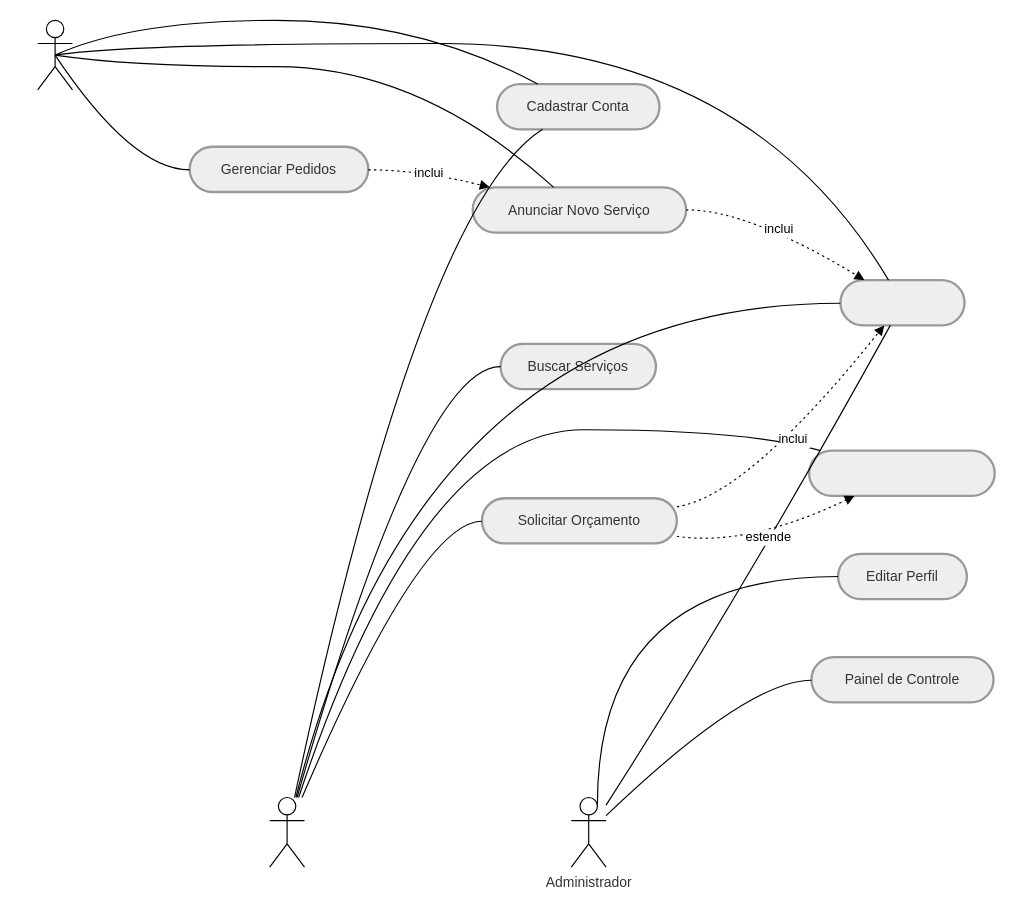
Image size: 1016x912. Some labels were removed from this diagram. The box of each missing label's shape, as (x1, y1, x2, y2) in pixels:
Consumidor: (269, 796, 304, 867)
Fazer Login: (839, 278, 965, 326)
Fornecedor: (37, 19, 72, 90)
Visualizar Detalhes: (807, 449, 995, 496)
